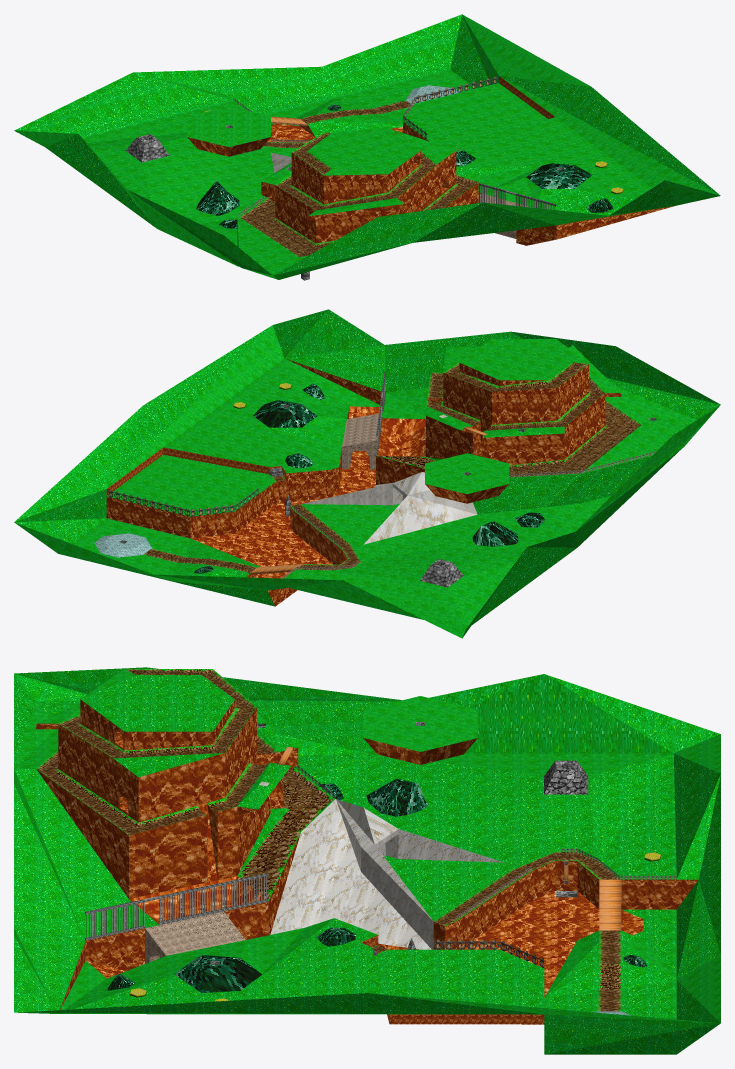
File: bombom.glb
The picture shows the model from 3 angles, top to bottom: view 1: azimuth 30°, elevation 25°; view 2: azimuth 150°, elevation 25°; view 3: azimuth 270°, elevation 25°; orthographic projection. The views are drawn at different scales.
Visible parts, largest first — view 1: Shape_IndexedFaceSet.009, Shape_IndexedFaceSet.022, Shape_IndexedFaceSet.024, Shape_IndexedFaceSet.025, Shape_IndexedFaceSet.014, Shape_IndexedFaceSet.027, Shape_IndexedFaceSet.010, Shape_IndexedFaceSet.065, Shape_IndexedFaceSet.017, Shape_IndexedFaceSet.064, Shape_IndexedFaceSet.012; view 2: Shape_IndexedFaceSet.009, Shape_IndexedFaceSet.022, Shape_IndexedFaceSet.024, Shape_IndexedFaceSet.016, Shape_IndexedFaceSet.025, Shape_IndexedFaceSet.014, Shape_IndexedFaceSet.010, Shape_IndexedFaceSet.027, Shape_IndexedFaceSet.065, Shape_IndexedFaceSet.015, Shape_IndexedFaceSet.012, Shape_IndexedFaceSet.017 (+1 smaller); view 3: Shape_IndexedFaceSet.009, Shape_IndexedFaceSet.022, Shape_IndexedFaceSet.016, Shape_IndexedFaceSet.024, Shape_IndexedFaceSet.025, Shape_IndexedFaceSet.014, Shape_IndexedFaceSet.010, Shape_IndexedFaceSet.064, Shape_IndexedFaceSet.015, Shape_IndexedFaceSet.065, Shape_IndexedFaceSet.013, Shape_IndexedFaceSet.017 (+2 smaller).
Part boxes in pixels (x1=…): Shape_IndexedFaceSet.009: x1=14, y1=14, x2=720, y2=279; Shape_IndexedFaceSet.022: x1=187, y1=76, x2=675, y2=245; Shape_IndexedFaceSet.024: x1=262, y1=127, x2=455, y2=216; Shape_IndexedFaceSet.025: x1=239, y1=130, x2=478, y2=257; Shape_IndexedFaceSet.014: x1=196, y1=104, x2=613, y2=228; Shape_IndexedFaceSet.027: x1=244, y1=200, x2=328, y2=256; Shape_IndexedFaceSet.010: x1=263, y1=100, x2=412, y2=148; Shape_IndexedFaceSet.065: x1=233, y1=76, x2=498, y2=242; Shape_IndexedFaceSet.017: x1=125, y1=134, x2=459, y2=162; Shape_IndexedFaceSet.064: x1=479, y1=185, x2=555, y2=209; Shape_IndexedFaceSet.012: x1=406, y1=85, x2=458, y2=105; Shape_IndexedFaceSet.009: x1=14, y1=309, x2=720, y2=638; Shape_IndexedFaceSet.022: x1=106, y1=359, x2=621, y2=606; Shape_IndexedFaceSet.024: x1=414, y1=339, x2=620, y2=460; Shape_IndexedFaceSet.016: x1=302, y1=414, x2=477, y2=544; Shape_IndexedFaceSet.025: x1=376, y1=361, x2=641, y2=477; Shape_IndexedFaceSet.014: x1=194, y1=384, x2=545, y2=573; Shape_IndexedFaceSet.010: x1=143, y1=475, x2=361, y2=573; Shape_IndexedFaceSet.027: x1=509, y1=404, x2=636, y2=476; Shape_IndexedFaceSet.065: x1=106, y1=451, x2=656, y2=578; Shape_IndexedFaceSet.015: x1=342, y1=413, x2=381, y2=469; Shape_IndexedFaceSet.012: x1=94, y1=533, x2=151, y2=557; Shape_IndexedFaceSet.017: x1=270, y1=467, x2=463, y2=587; Shape_IndexedFaceSet.009: x1=14, y1=667, x2=720, y2=1054; Shape_IndexedFaceSet.022: x1=36, y1=699, x2=698, y2=1024; Shape_IndexedFaceSet.016: x1=259, y1=781, x2=504, y2=949; Shape_IndexedFaceSet.024: x1=37, y1=669, x2=297, y2=874; Shape_IndexedFaceSet.025: x1=36, y1=669, x2=333, y2=900; Shape_IndexedFaceSet.014: x1=107, y1=779, x2=647, y2=992; Shape_IndexedFaceSet.010: x1=372, y1=851, x2=621, y2=1011; Shape_IndexedFaceSet.064: x1=86, y1=876, x2=267, y2=937; Shape_IndexedFaceSet.015: x1=145, y1=911, x2=245, y2=963; Shape_IndexedFaceSet.065: x1=295, y1=765, x2=676, y2=967; Shape_IndexedFaceSet.013: x1=85, y1=722, x2=577, y2=964; Shape_IndexedFaceSet.017: x1=372, y1=760, x2=588, y2=955.
Size of the model in its own units: 16.39 by 4.7 by 16.38.
21 materials, 21 textured.
